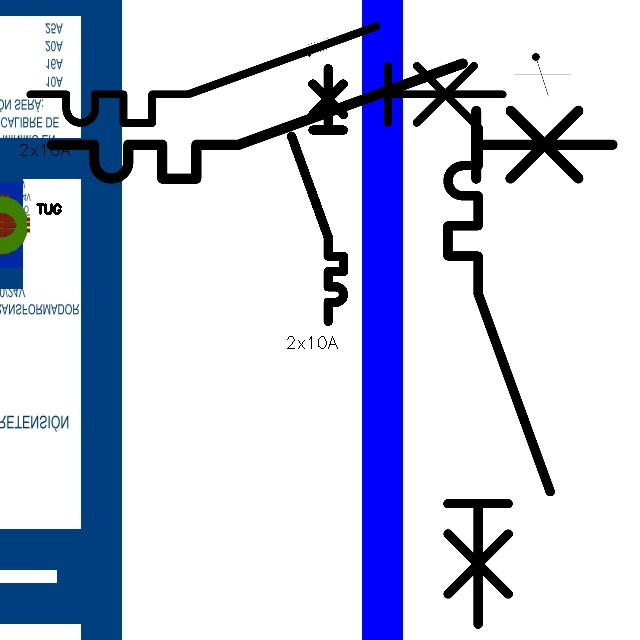interruptor_termomagnetico: (37, 49, 627, 193), (435, 115, 563, 637), (18, 14, 514, 135), (285, 62, 350, 328)
